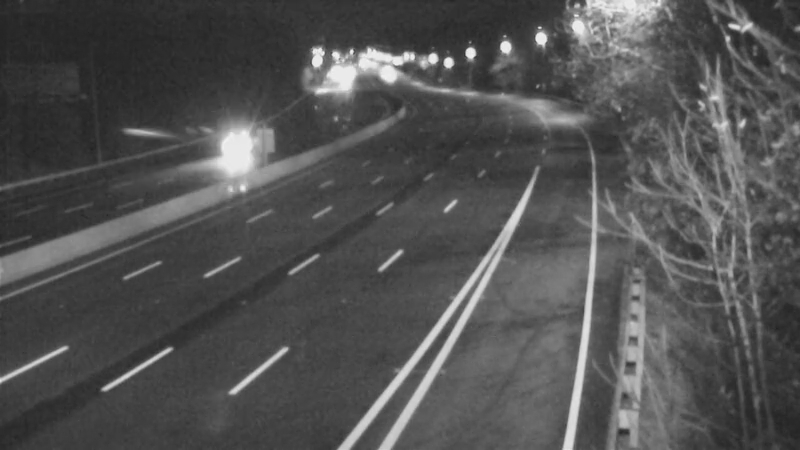vehicle: (194, 112, 274, 192), (363, 51, 413, 101)
